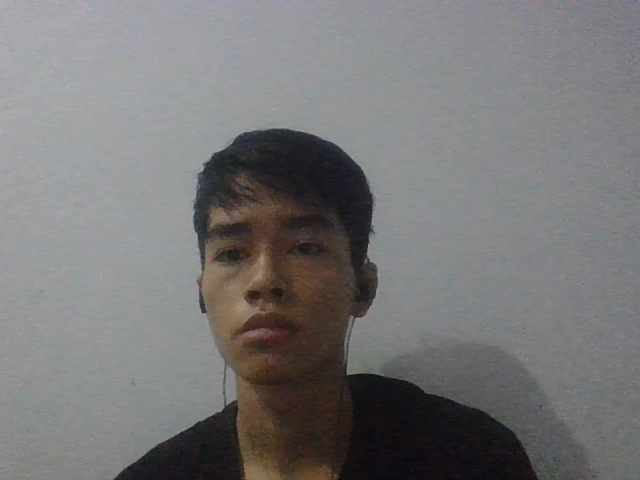real: (173, 109, 379, 401)
